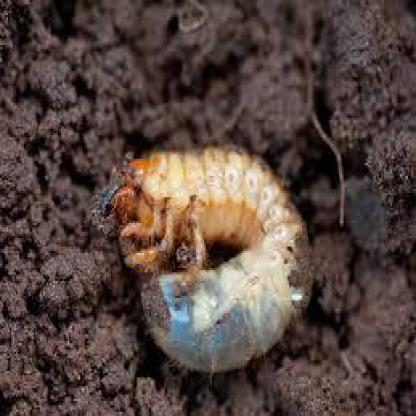root grubs: (96, 148, 309, 370)
